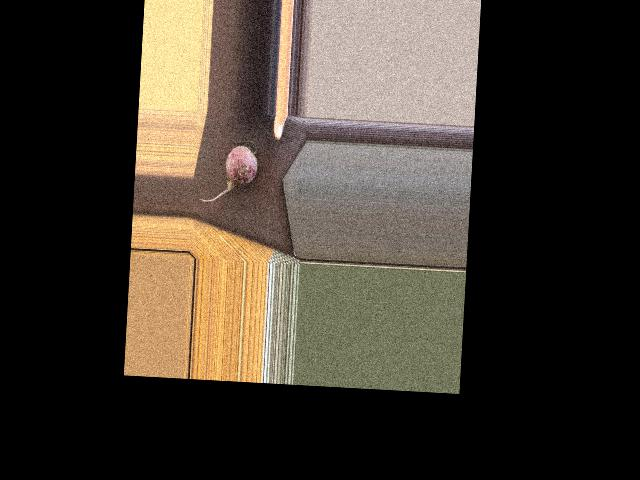beet: (200, 133, 259, 205)
